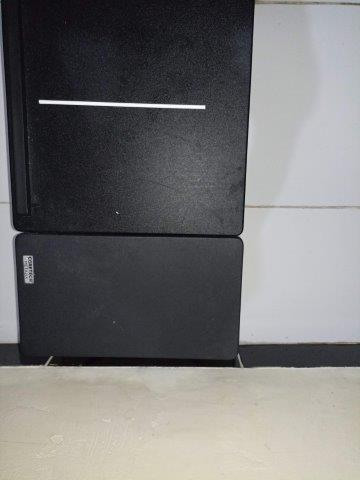sedotan: (39, 99, 205, 110)
